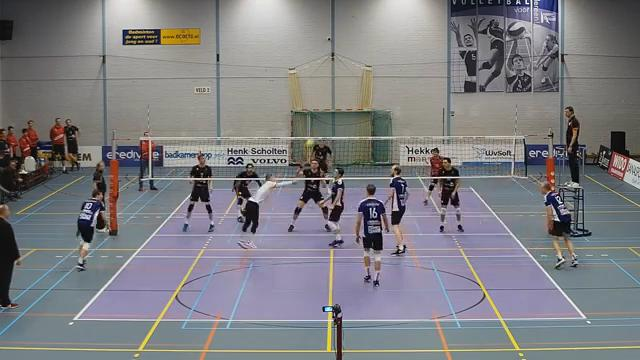alzata: (235, 172, 300, 253)
